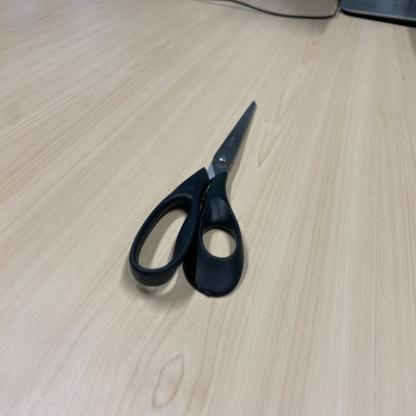scissors: (128, 97, 259, 296)
